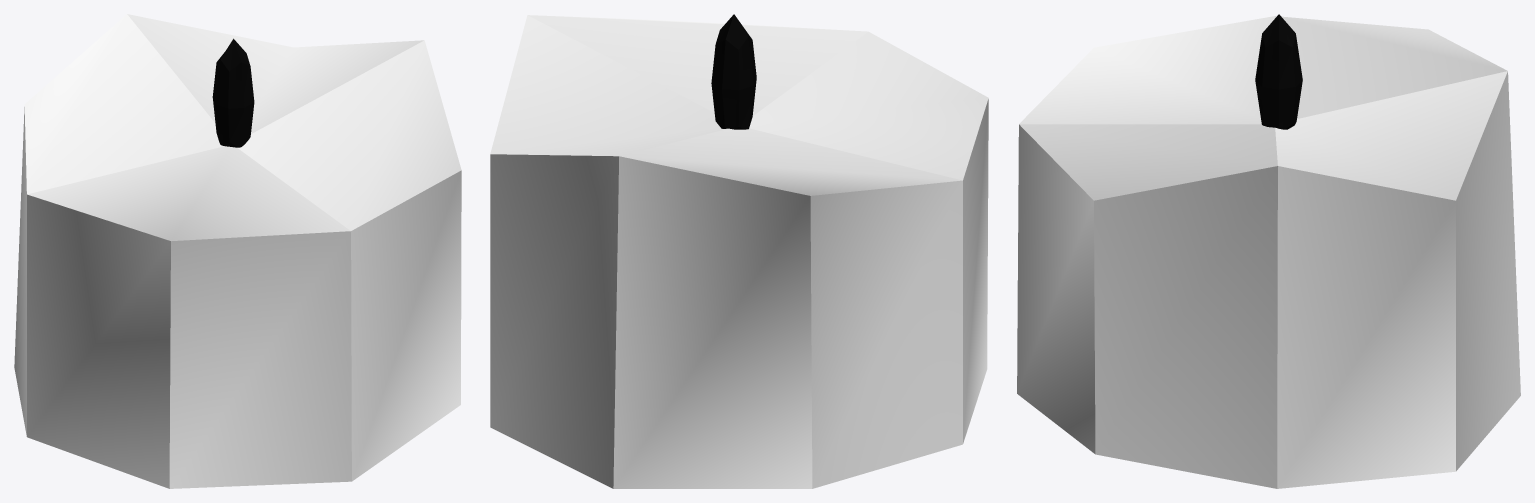
The model's file is Candle_4.fbx.
The picture shows the model from 3 angles, left to right: view 1: azimuth 30°, elevation 25°; view 2: azimuth 150°, elevation 25°; view 3: azimuth 270°, elevation 25°; orthographic projection. The views are drawn at different scales.
Parts seen in each view (by area): view 1: Candle_4; view 2: Candle_4; view 3: Candle_4.
Boxes of the visible parts, x1=… form: Candle_4: x1=14, y1=14, x2=461, y2=488; Candle_4: x1=490, y1=14, x2=988, y2=488; Candle_4: x1=1017, y1=14, x2=1520, y2=488.
Bounding box in the file's own units: 6.65 × 5.71 × 6.66.
